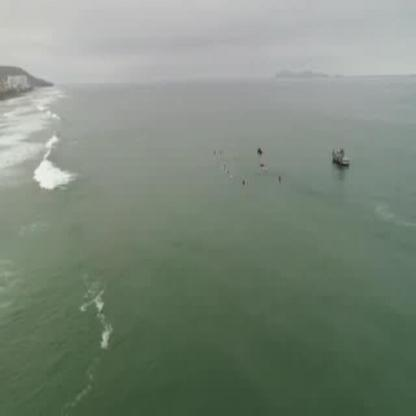Boat: (330, 144, 354, 175)
